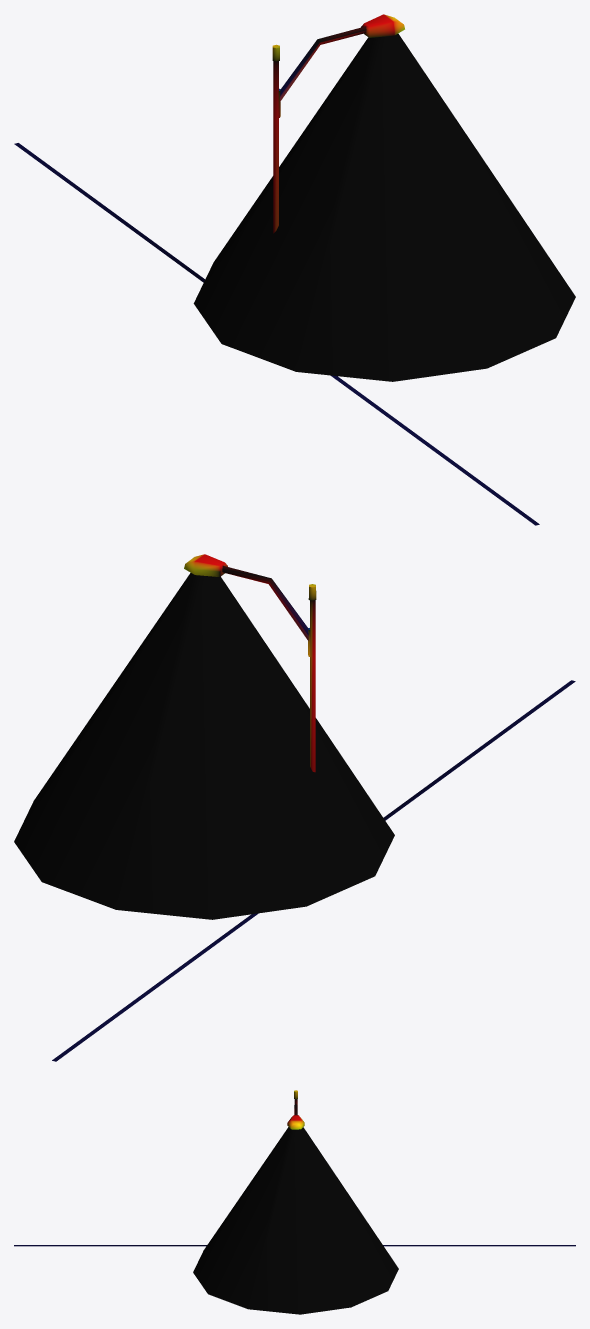
Rendered from Street_Segments_StreetLight.fbx.
3 renders of one model, top to bottom at view 1: azimuth 30°, elevation 25°; view 2: azimuth 150°, elevation 25°; view 3: azimuth 270°, elevation 25°, orthographic. The views are drawn at different scales.
Visible parts, largest first — view 1: Street_Segments_StreetLight; view 2: Street_Segments_StreetLight; view 3: Street_Segments_StreetLight.
Boxes of the visible parts, left/top/right/bottom form: Street_Segments_StreetLight: left=14, top=14, right=575, bottom=525; Street_Segments_StreetLight: left=14, top=554, right=575, bottom=1061; Street_Segments_StreetLight: left=14, top=1090, right=575, bottom=1314.
Bounding box in the file's own units: 10.33 × 8.49 × 27.9.
